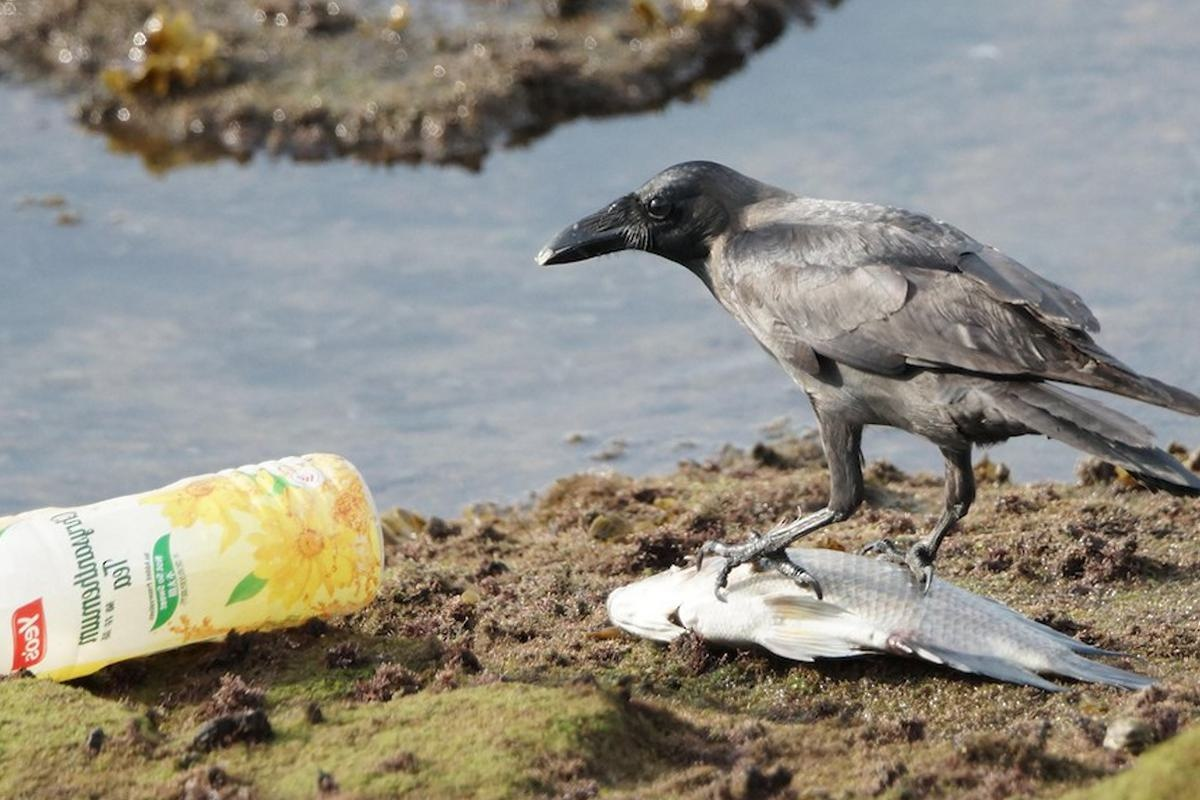crow: (533, 151, 1200, 592)
